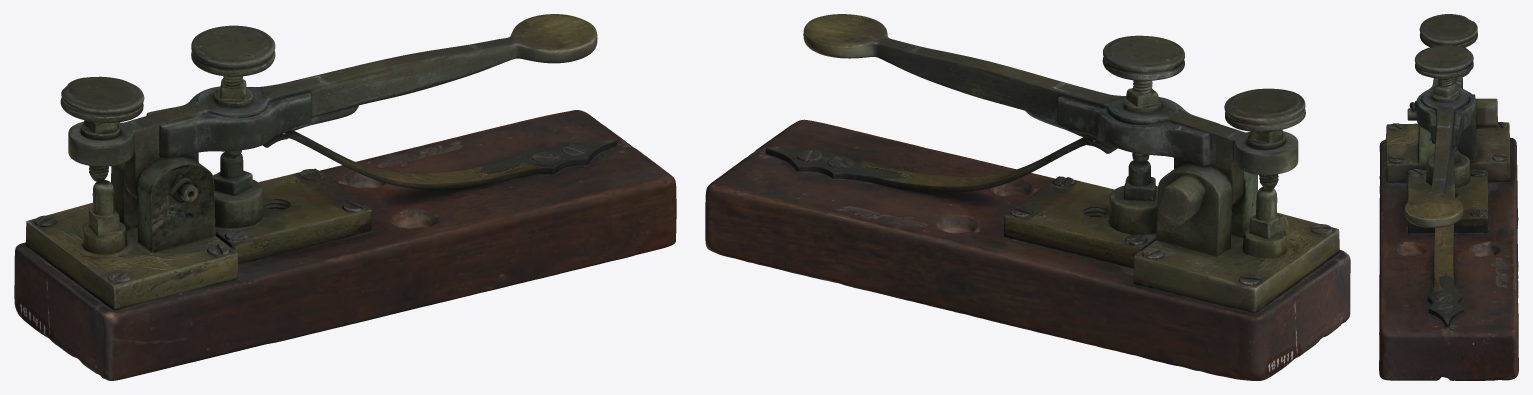
File: si-morse-vail-telegraph-key.glb
3 views of the same model, side by side, from view 1: azimuth 30°, elevation 25°; view 2: azimuth 150°, elevation 25°; view 3: azimuth 270°, elevation 25° (orthographic). The views are drawn at different scales.
Bounding box in the file's own units: 0.1691 × 0.0766 × 0.0508.
1 material, 1 textured.
